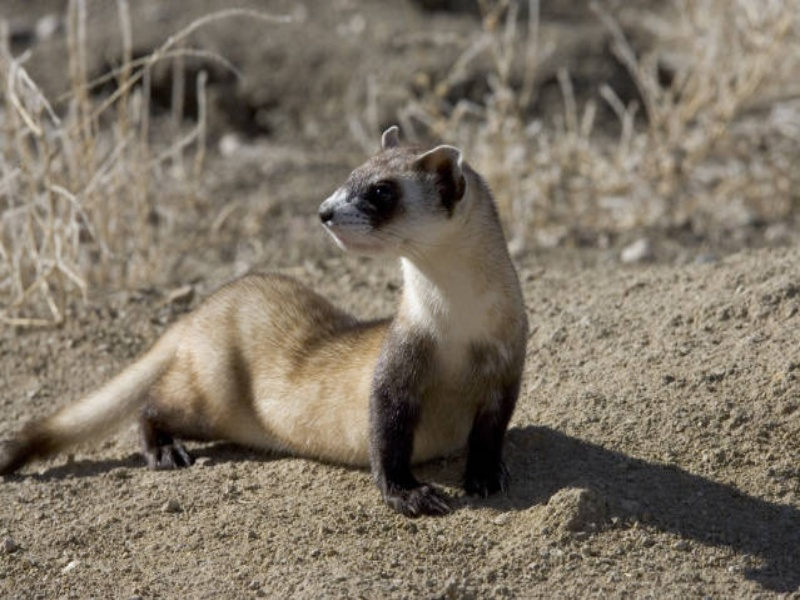minkish: (1, 119, 530, 514)
